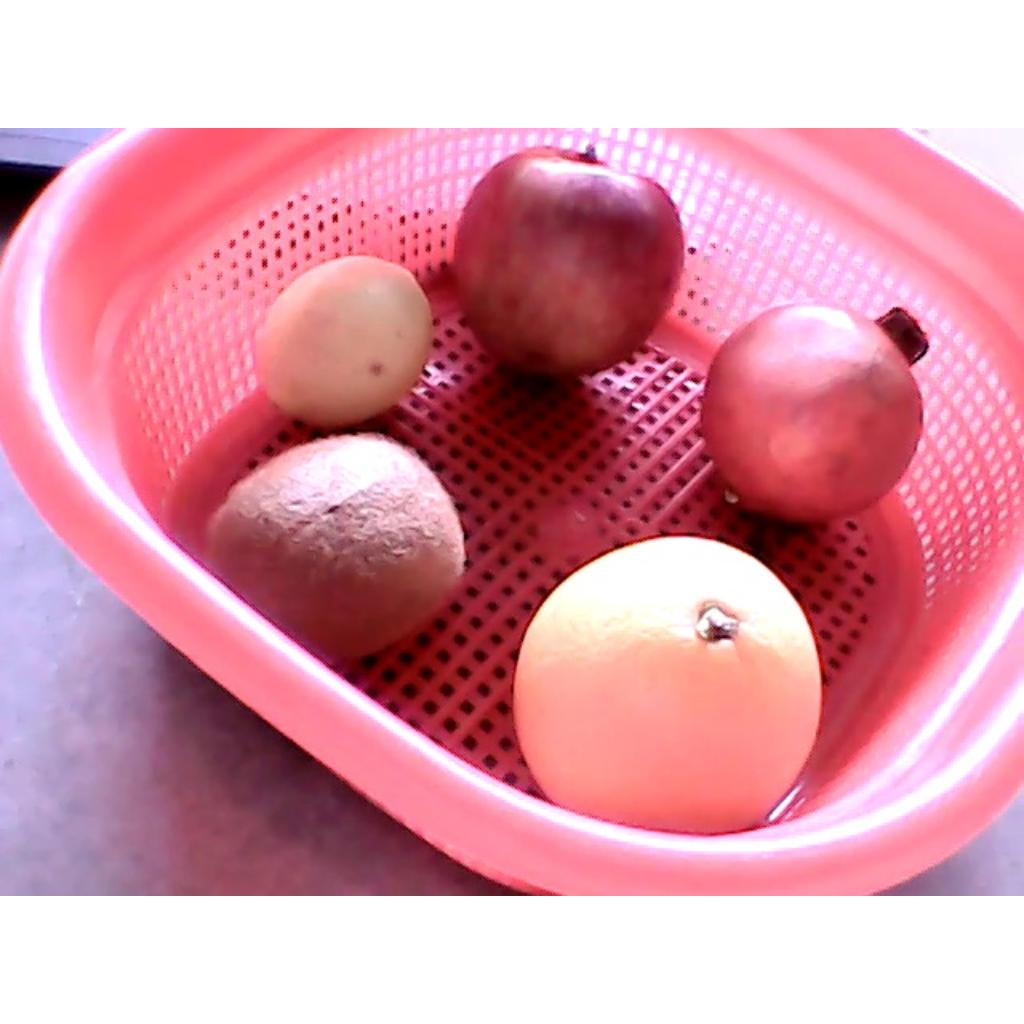apple: (451, 145, 687, 376)
kiwi: (204, 435, 467, 659)
lemon: (258, 255, 431, 427)
orange: (513, 534, 823, 836)
pomegranate: (701, 302, 930, 522)
